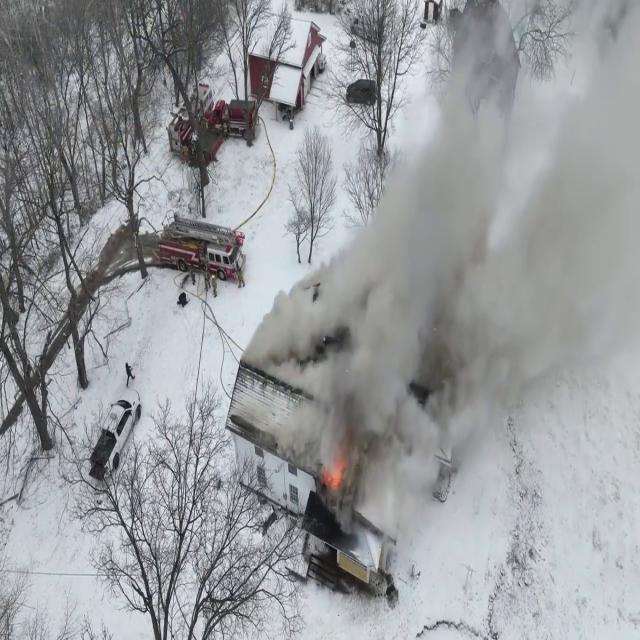Smoke: (299, 2, 640, 514)
